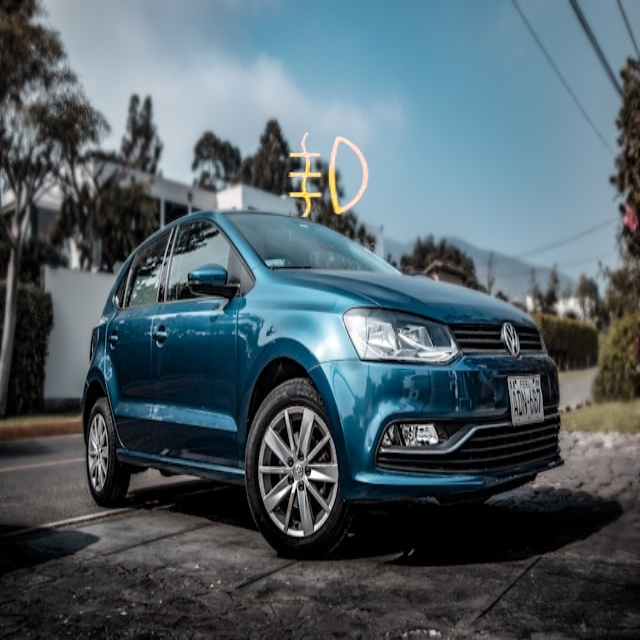symbol: (247, 92, 414, 259)
